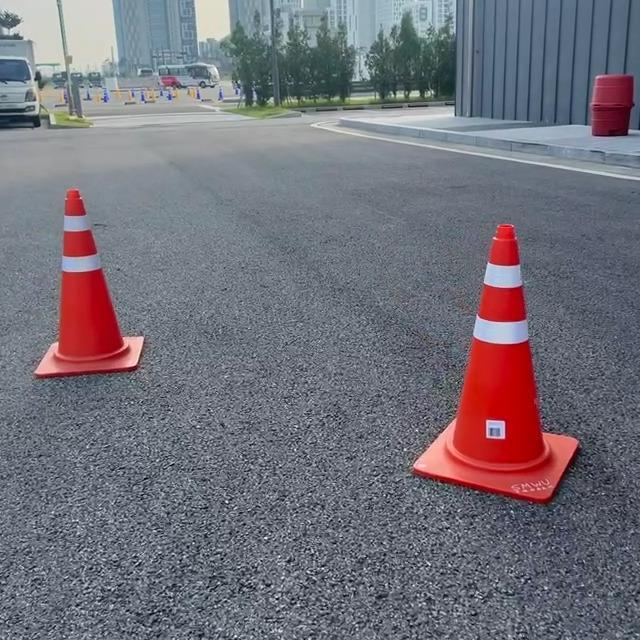fallen_object: (329, 159, 560, 562), (9, 180, 169, 449)
